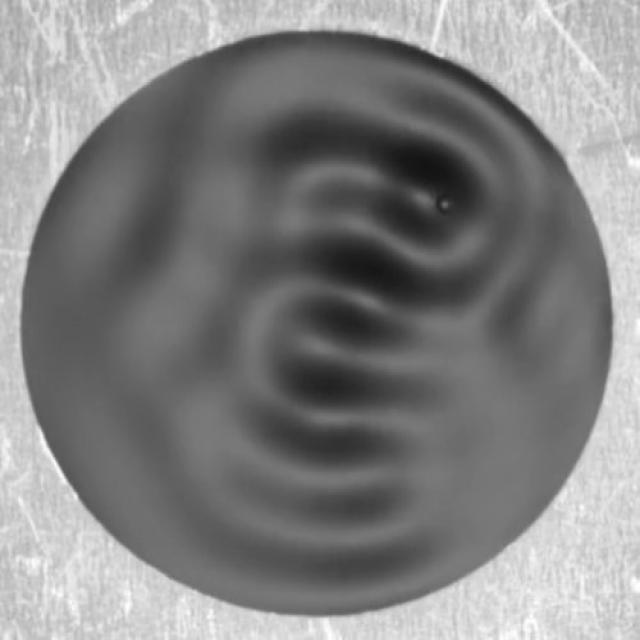droplet: (437, 189, 458, 217)
